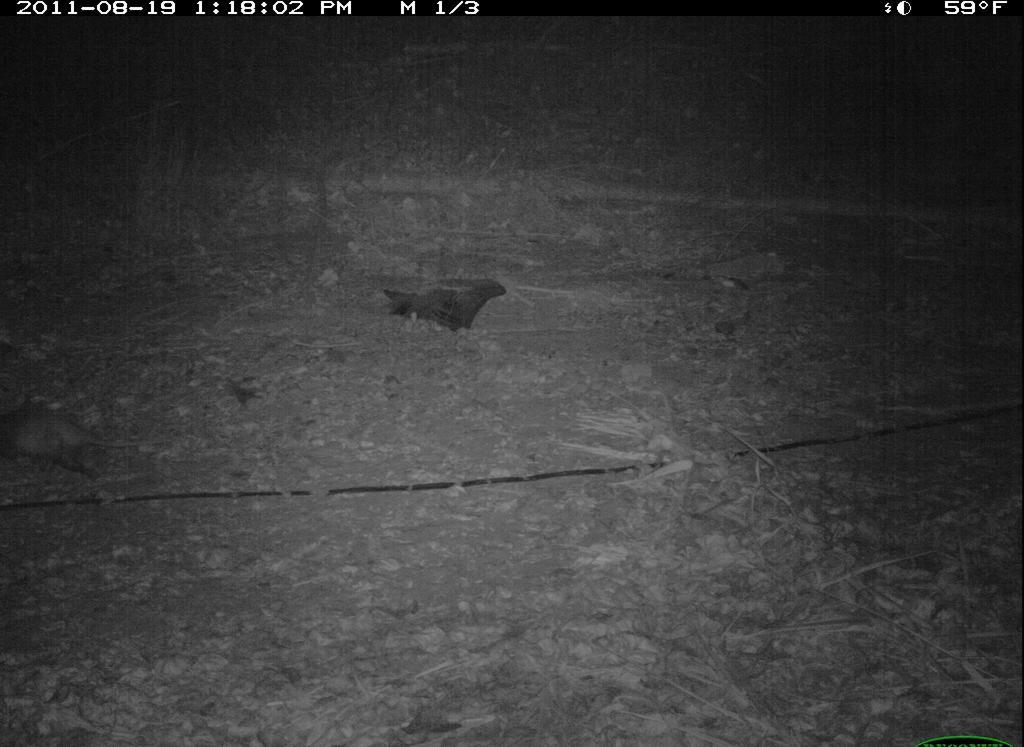opossum: (4, 404, 169, 488)
